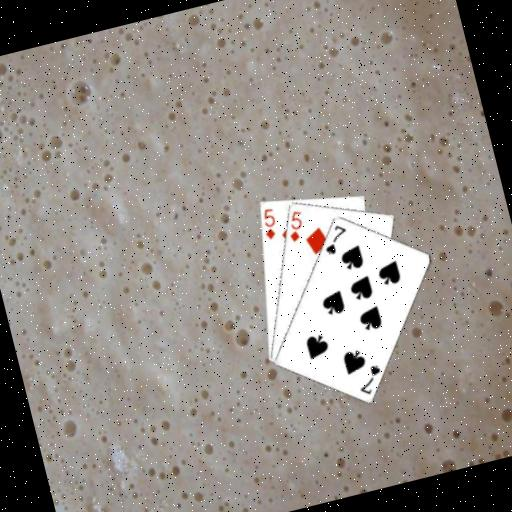5D: (281, 206, 309, 244), (256, 204, 281, 242)
7S: (317, 219, 353, 258), (351, 361, 387, 399)
